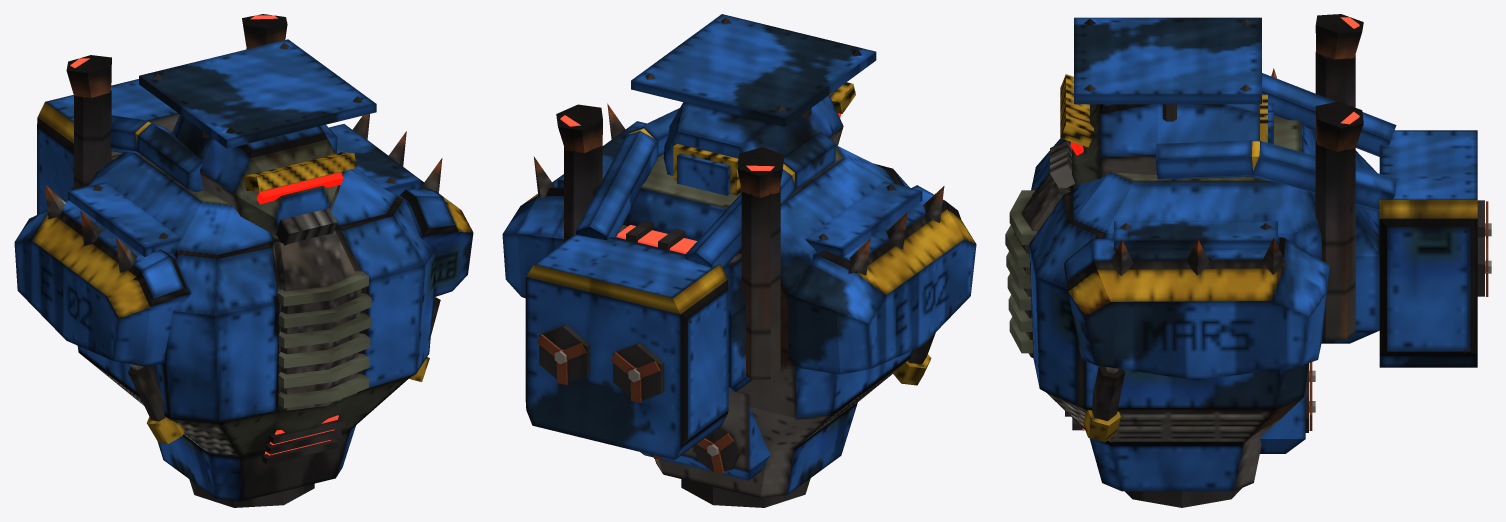
File: ErgonomicsTorsoY.glb
3 renders of one model, left to right at view 1: azimuth 30°, elevation 25°; view 2: azimuth 150°, elevation 25°; view 3: azimuth 270°, elevation 25°, orthographic. The views are drawn at different scales.
Parts seen in each view (by area): view 1: ErgonomicsTorsoY_Body, ErgonomicsTorsoY_Head; view 2: ErgonomicsTorsoY_Body, ErgonomicsTorsoY_Head; view 3: ErgonomicsTorsoY_Body, ErgonomicsTorsoY_Head.
Part boxes in pixels (left/top/right/bottom): ErgonomicsTorsoY_Body: left=14, top=14, right=473, bottom=507; ErgonomicsTorsoY_Head: left=139, top=39, right=376, bottom=245; ErgonomicsTorsoY_Body: left=502, top=103, right=976, bottom=507; ErgonomicsTorsoY_Head: left=631, top=14, right=876, bottom=195; ErgonomicsTorsoY_Body: left=1005, top=14, right=1491, bottom=507; ErgonomicsTorsoY_Head: left=1050, top=17, right=1273, bottom=188.
Bounding box in the file's own units: 10.9 × 11.79 × 12.17.
Materials: 18 (16 with a texture image).
